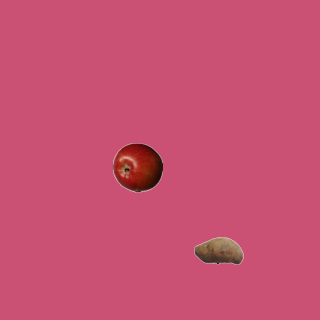Apple Braeburn: (112, 142, 162, 192)
Potato Sweet: (193, 225, 243, 275)
